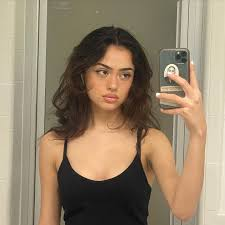Human_Female: (62, 29, 151, 220)
